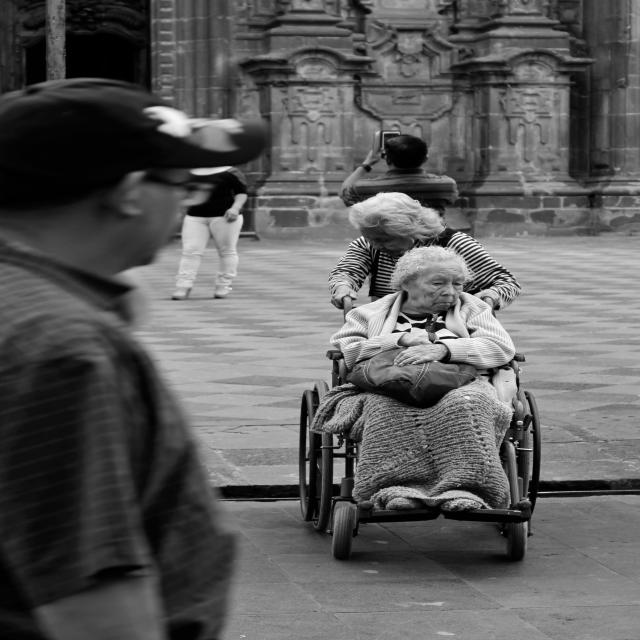wheelchairs: (302, 296, 534, 556)
